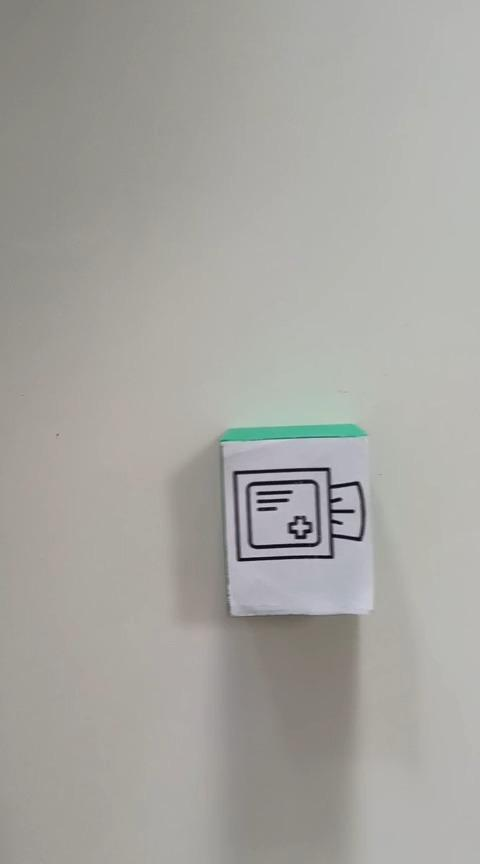Gauze: (217, 422, 375, 617)
